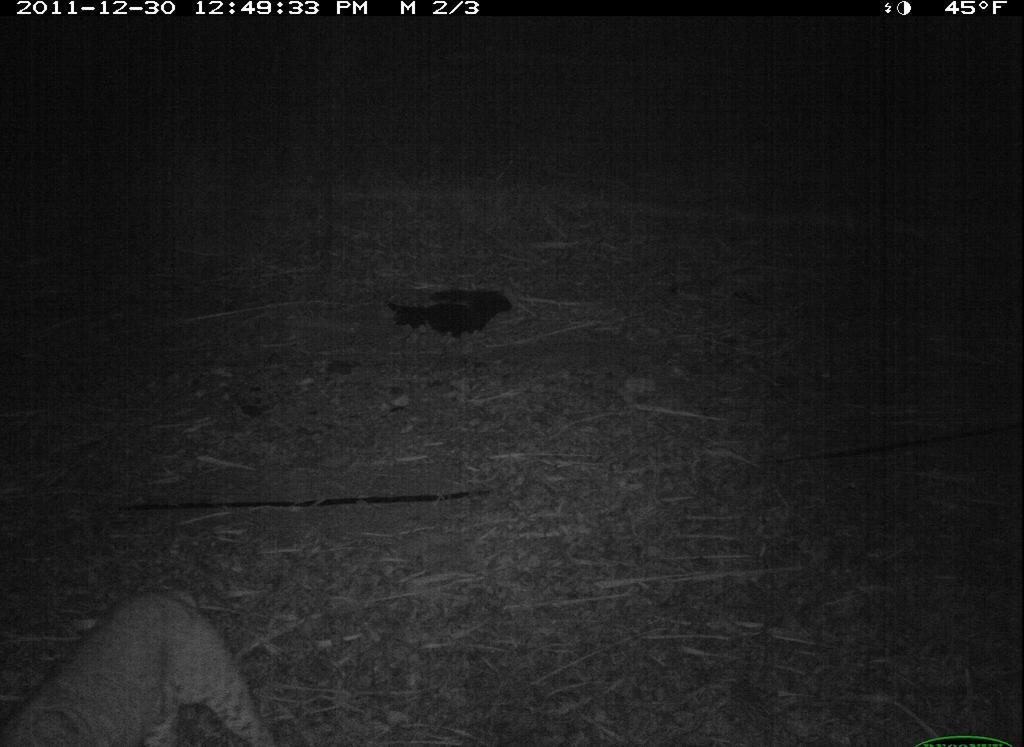bobcat: (3, 579, 283, 747)
